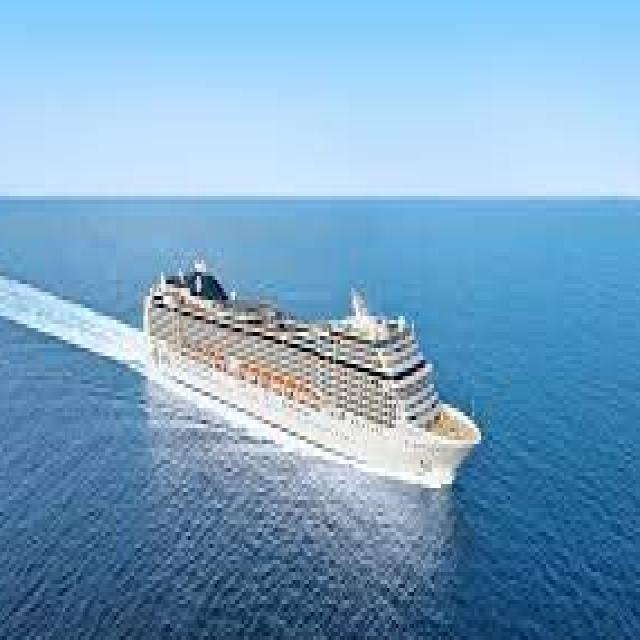passenger ship: (136, 250, 484, 490)
